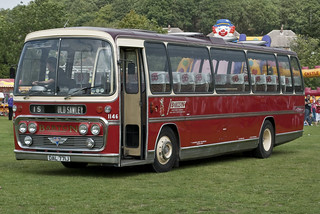bus: (13, 26, 305, 173)
